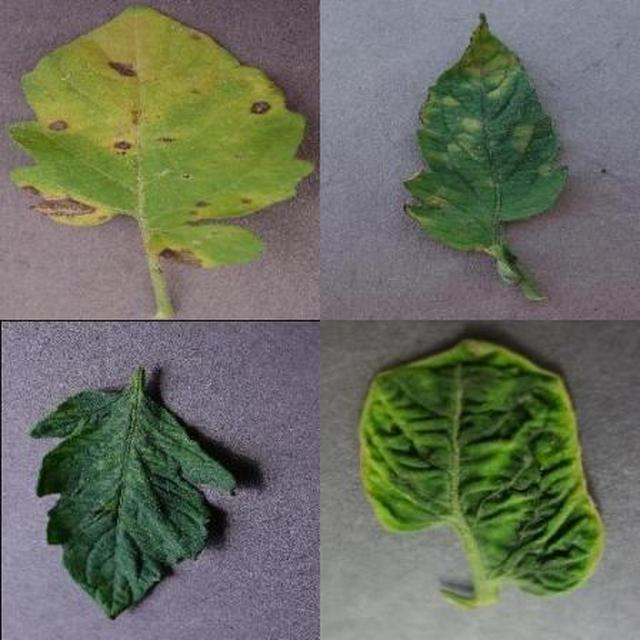Septoria Leaf: (191, 166, 640, 640)
